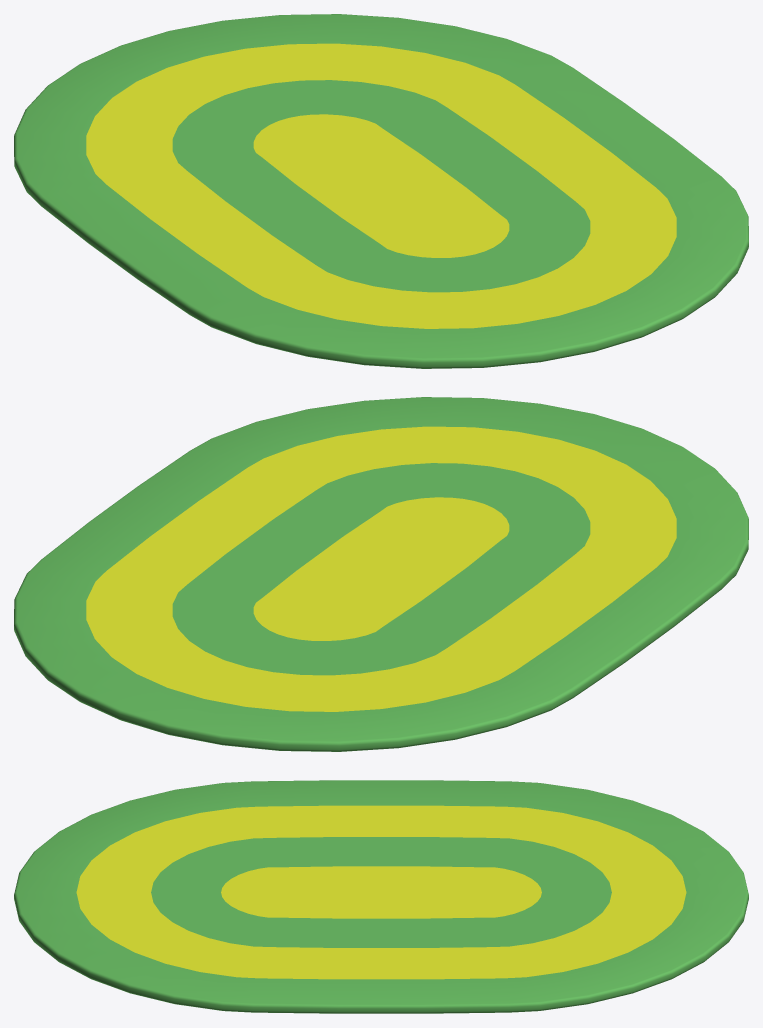
Rendered from Carpet3.glb.
3 renders of one model, top to bottom at view 1: azimuth 30°, elevation 25°; view 2: azimuth 150°, elevation 25°; view 3: azimuth 270°, elevation 25°, orthographic. The views are drawn at different scales.
Visible parts, largest first — view 1: Carpet; view 2: Carpet; view 3: Carpet.
Boxes of the visible parts, bbox=[...] form: Carpet: bbox=[14, 14, 748, 368]; Carpet: bbox=[14, 397, 748, 751]; Carpet: bbox=[14, 780, 748, 1013].
Size of the model in its own units: 2.06 by 0.0382 by 2.83.
